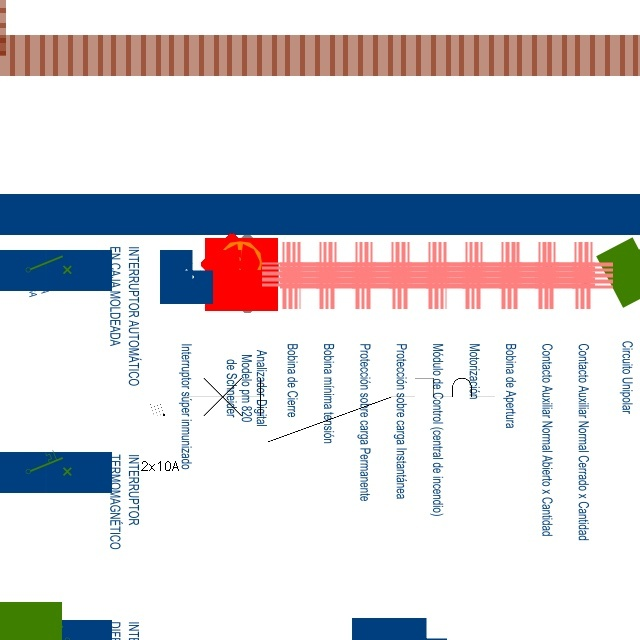interruptor_termomagnetico: (176, 370, 502, 449)
